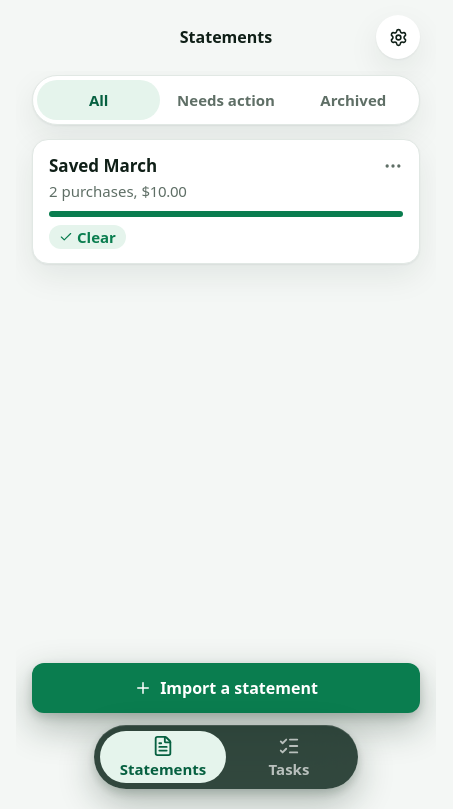
Test: App › remembers the chosen filter and says when nothing needs action
Expected: the text "Clear" is shown, [49,225,126,249]
Step 1. Click the button "Needs action" → (226, 100), box [164,80,288,120]
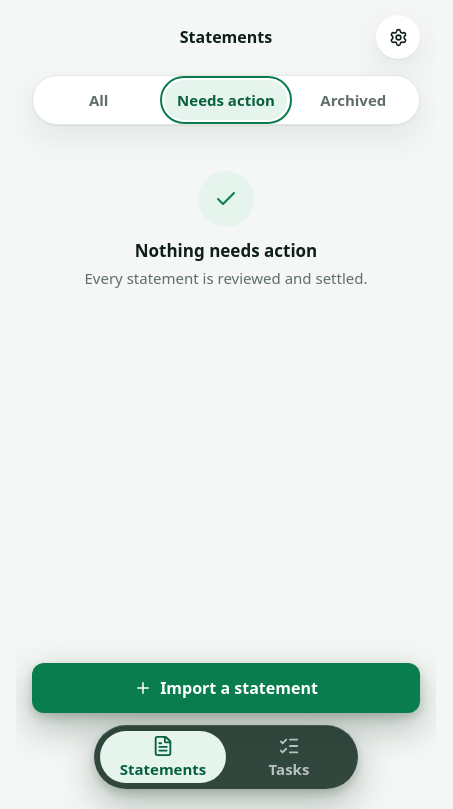
Result: the heading "Nothing needs action" is shown at [135,239,317,262]
